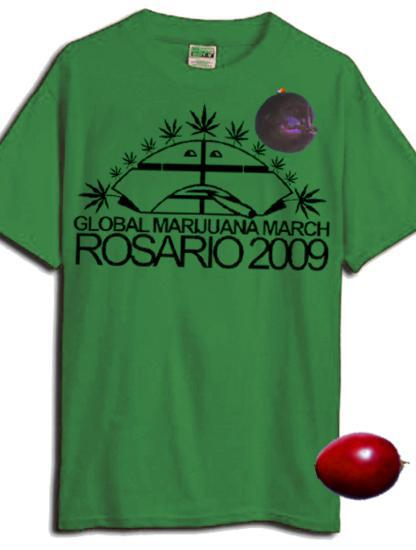Passion: (252, 89, 319, 156)
Tamarillo: (316, 419, 409, 512)
